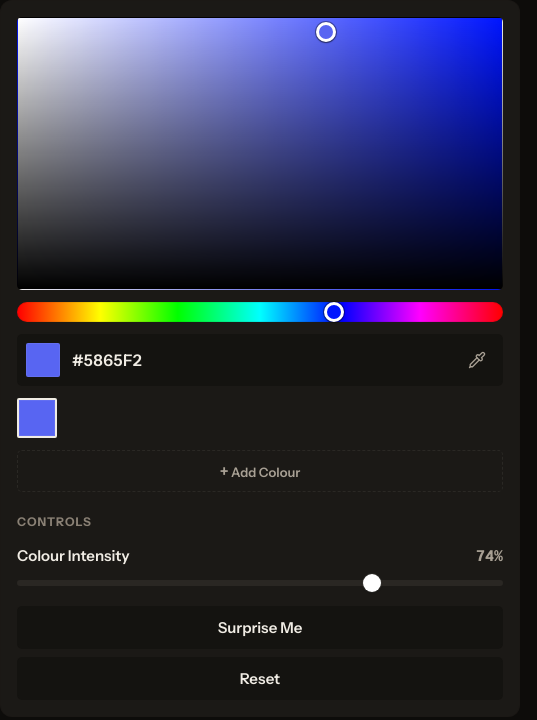
CustomThemeStudio › discards a half-typed value on blur
Replace the text in the field named "Hex colour value" with "#12" at (260, 360), box [72,350,448,370]
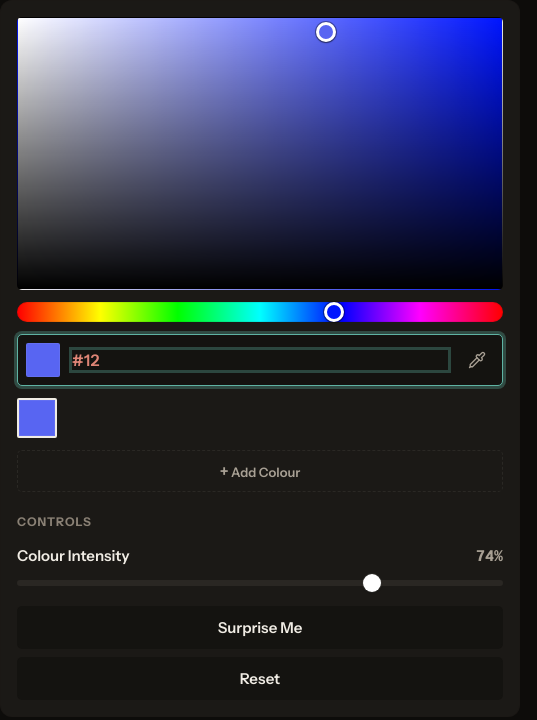
Press Tab
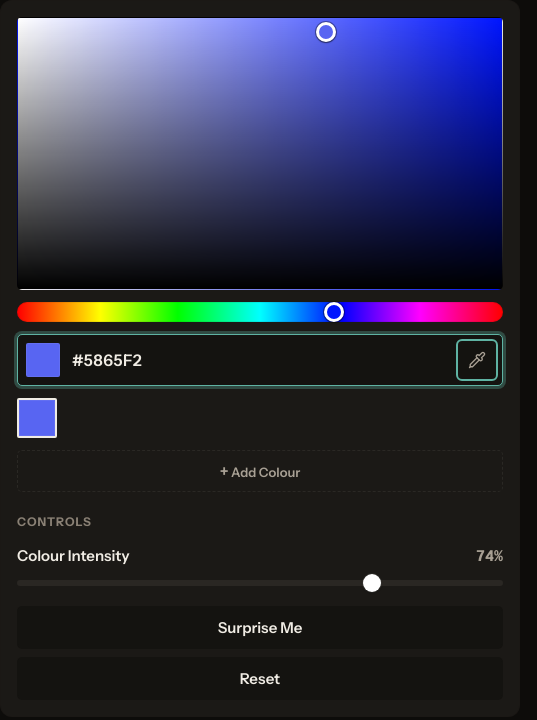
Now the field named "Hex colour value" holds "#5865F2", box [72,350,448,370]
